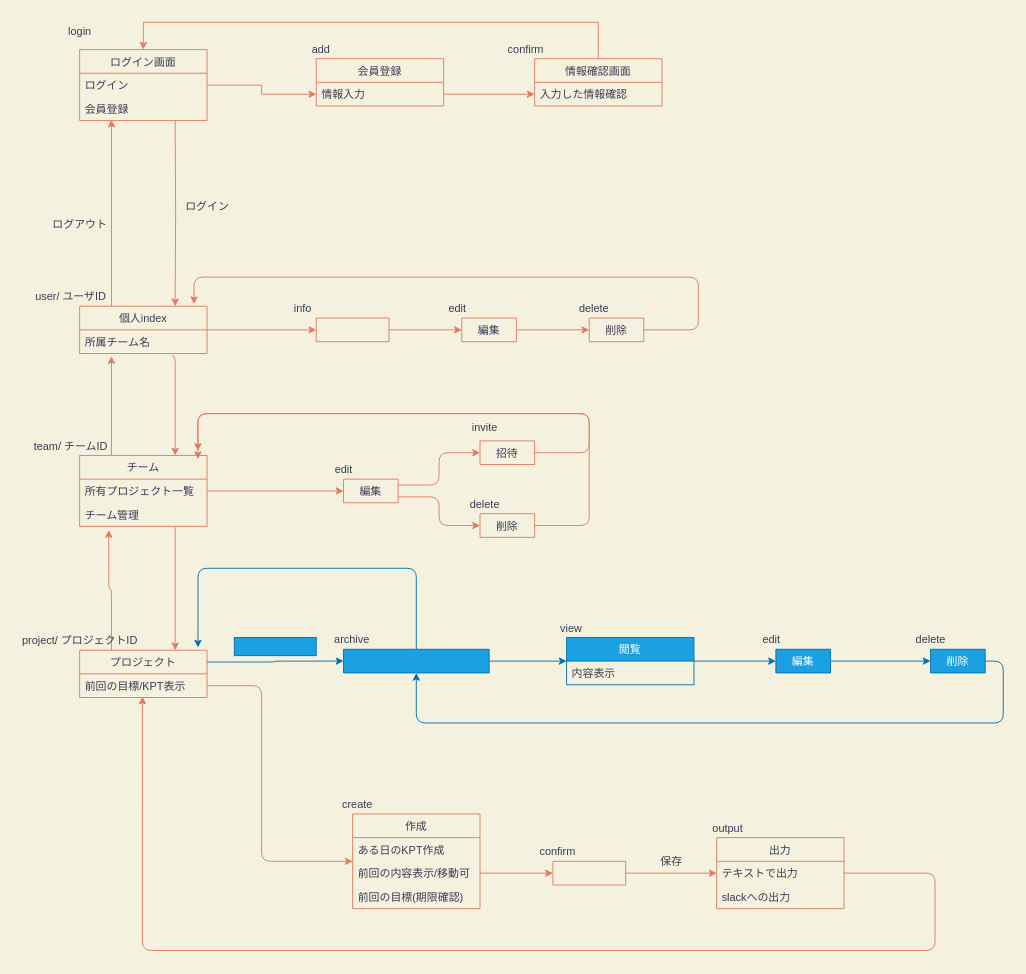
Image size: 1026x974. Some labels were removed from this diagram. The centre of each missing label's shape, as x and y in pixels:
"会員情報" belongs at (x=352, y=329).
"内容確認" belongs at (x=589, y=872).
"後で追加する" belongs at (x=274, y=646).
"過去のプロジェクト一覧" belongs at (x=416, y=660).
